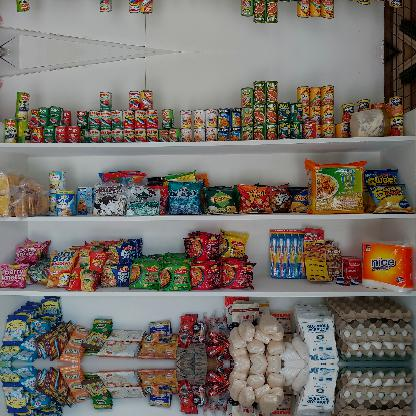Lady-s-Choice: (350, 107, 388, 137)
